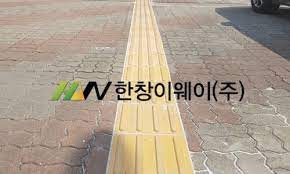guide_blocks: (110, 103, 193, 174), (123, 2, 170, 81)
